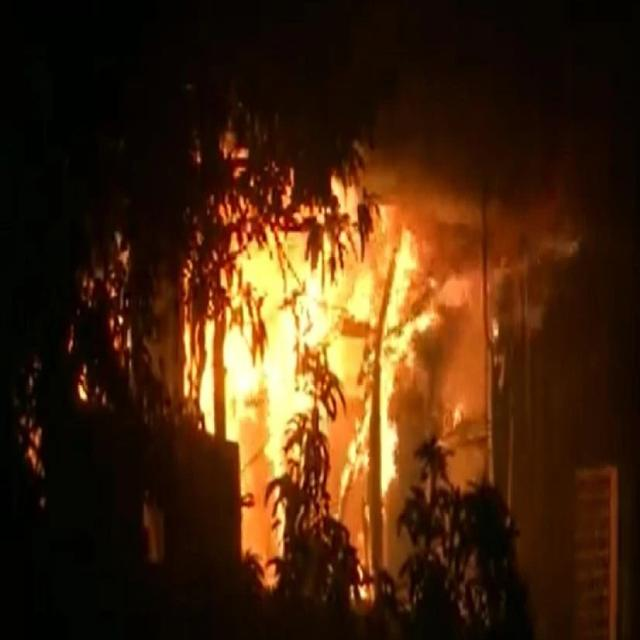fire: (187, 178, 439, 598)
